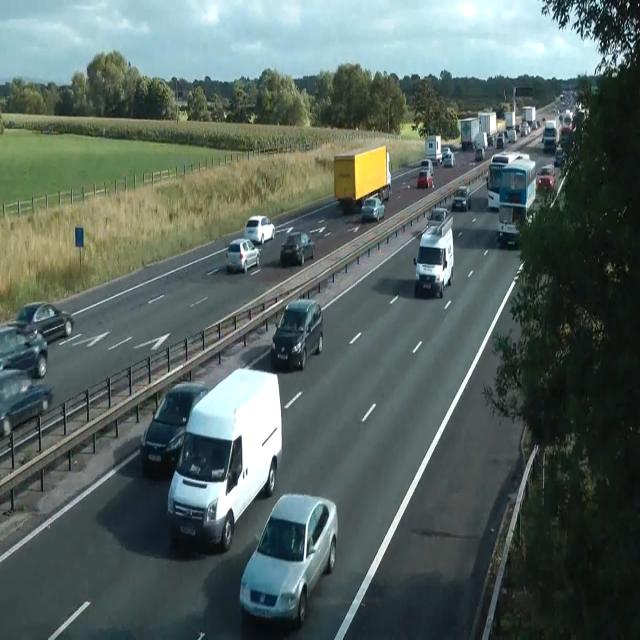bus: (239, 492, 337, 628), (0, 369, 53, 438), (6, 300, 74, 344), (279, 230, 315, 266), (225, 237, 259, 273), (244, 214, 275, 244), (361, 196, 385, 222), (536, 164, 556, 192), (452, 185, 472, 211), (426, 206, 448, 225), (417, 169, 433, 188), (420, 158, 434, 175), (554, 148, 565, 166), (443, 152, 455, 167), (519, 121, 531, 136), (541, 164, 555, 176), (475, 146, 485, 161), (507, 129, 517, 143), (441, 146, 451, 157)
car: (166, 366, 282, 552), (496, 154, 536, 246)
jeep: (139, 380, 209, 476), (272, 297, 323, 370), (413, 217, 454, 298), (0, 324, 48, 378), (542, 120, 556, 150)
minibus: (333, 145, 391, 213), (486, 151, 530, 210), (459, 111, 497, 150), (460, 118, 480, 150), (424, 134, 442, 166), (522, 105, 536, 123), (504, 111, 516, 129)
